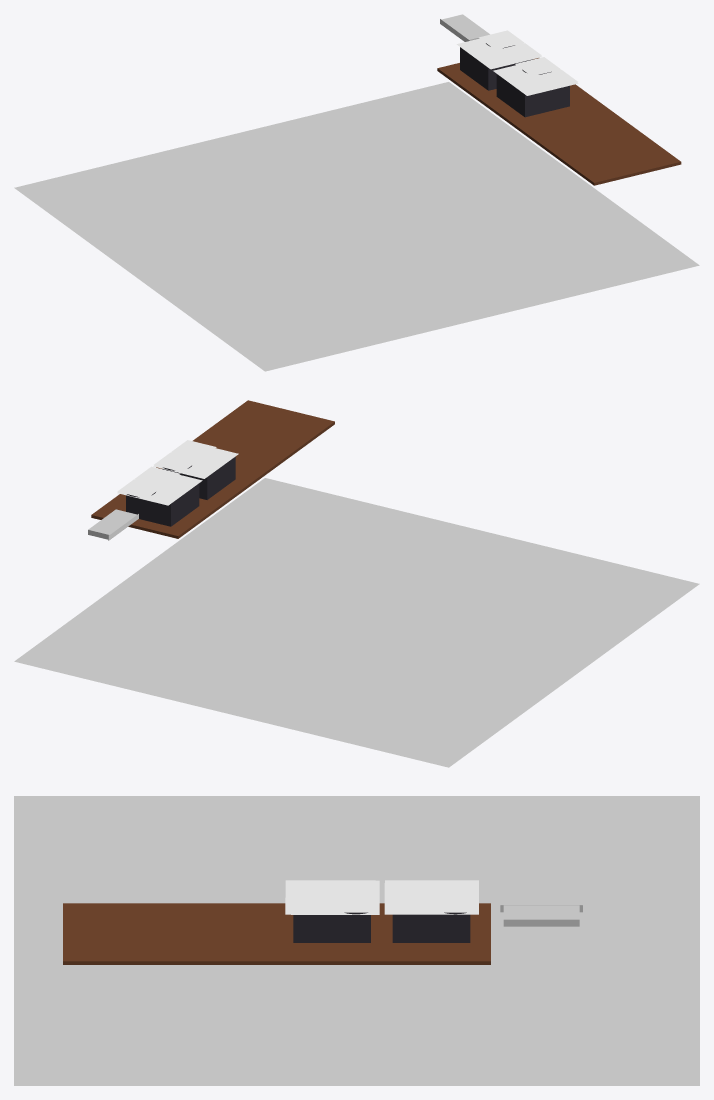
The model's file is Studio_Try_1.glb.
The picture shows the model from 3 angles, top to bottom: view 1: azimuth 30°, elevation 25°; view 2: azimuth 150°, elevation 25°; view 3: azimuth 270°, elevation 25°; orthographic projection. The views are drawn at different scales.
Visible parts, largest first — view 1: Plane, Bench, Revox (×2), B77-Tonbandger-t (×2), Cube; view 2: Plane, Bench, Revox (×2), B77-Tonbandger-t (×2), Cube; view 3: Plane, Bench, Revox (×2), B77-Tonbandger-t (×2), Left spool (×2), Right spool (×2), Cube.
Boxes of the visible parts, <box> form: Plane: <box>14,82,699,371</box>; Bench: <box>437,58,681,185</box>; Revox (×2): <box>460,47,569,117</box>; B77-Tonbandger-t (×2): <box>456,38,578,95</box>; Cube: <box>441,14,489,40</box>; Plane: <box>14,478,699,767</box>; Bench: <box>91,400,334,538</box>; Revox (×2): <box>126,456,235,526</box>; B77-Tonbandger-t (×2): <box>117,448,238,505</box>; Cube: <box>88,509,136,539</box>; Plane: <box>14,796,699,1085</box>; Bench: <box>63,903,490,964</box>; Revox (×2): <box>293,914,470,942</box>; B77-Tonbandger-t (×2): <box>285,880,478,914</box>; Left spool (×2): <box>333,893,478,912</box>; Right spool (×2): <box>285,893,431,912</box>; Cube: <box>503,905,579,926</box>.
Size of the model in its own units: 8 by 2.04 by 8.
